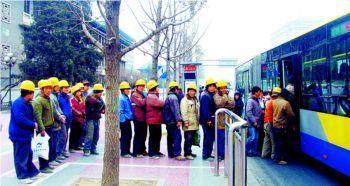helmet: (20, 81, 37, 93), (49, 76, 60, 87), (39, 80, 53, 88), (61, 79, 71, 89), (218, 80, 228, 90), (121, 82, 132, 91), (149, 82, 159, 91), (137, 79, 147, 87), (94, 85, 105, 92), (187, 84, 198, 90), (206, 79, 214, 87), (169, 82, 179, 88), (274, 87, 282, 94)
